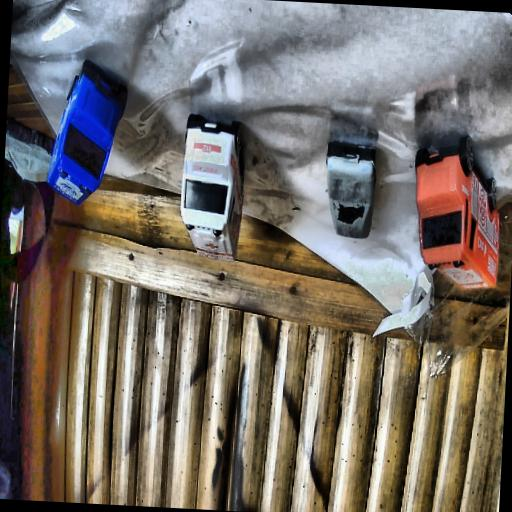ambulance: (176, 117, 247, 262)
fire_truck: (410, 141, 504, 289)
normal_car: (321, 108, 380, 242)
police car: (44, 57, 130, 209)
